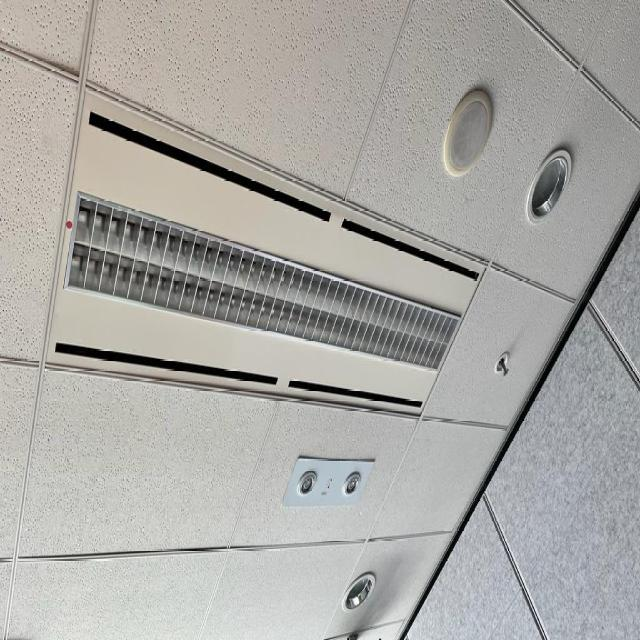Light-Closed: (41, 86, 488, 423), (522, 142, 573, 227), (340, 568, 378, 614)
